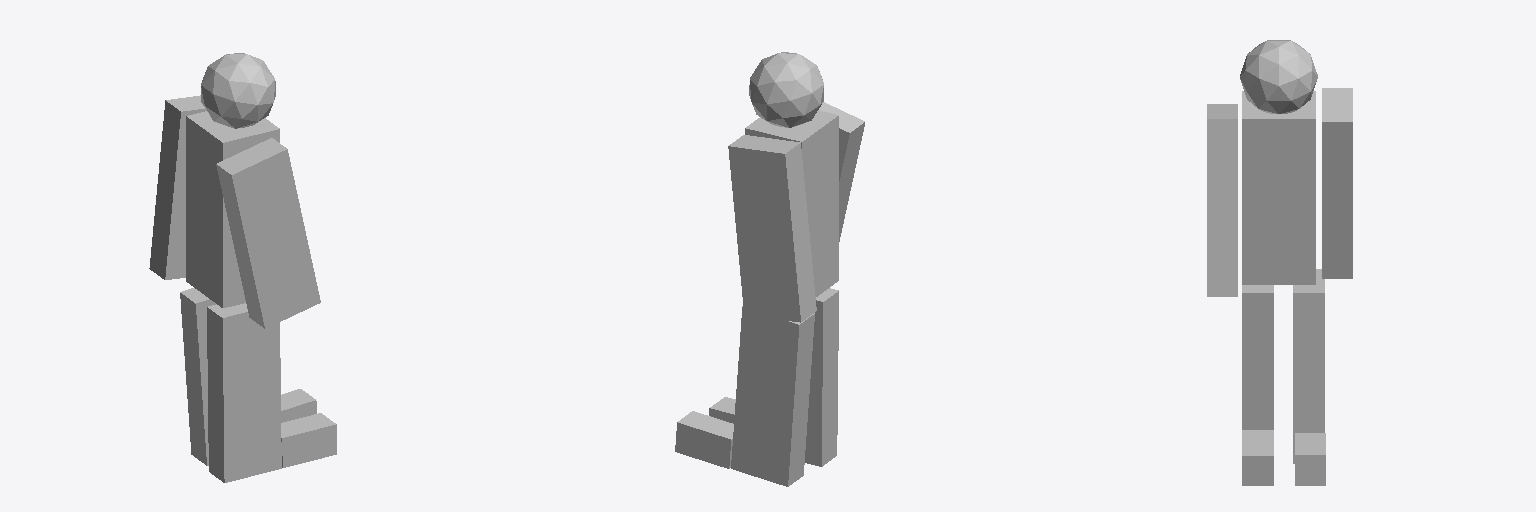
File: player_000009.obj
3 renders of one model, left to right at view 1: azimuth 30°, elevation 25°; view 2: azimuth 150°, elevation 25°; view 3: azimuth 270°, elevation 25°, orthographic.
Parts seen in each view (by area): view 1: Cube.005, Cube.001, Cube, Cube.006, Icosphere, Cube.002, Cube.003, Cube.004; view 2: Cube.006, Cube.002, Cube, Cube.001, Icosphere, Cube.004, Cube.005; view 3: Cube, Cube.005, Cube.006, Cube.002, Cube.001, Icosphere, Cube.003, Cube.004.
Part boxes in pixels (x1,y1,x2,y2): Cube.005: (216,138,320,328); Cube.001: (207,303,281,482); Cube: (186,111,279,307); Cube.006: (149,95,206,279); Icosphere: (201,53,275,128); Cube.002: (180,288,215,465); Cube.003: (281,413,336,467); Cube.004: (281,389,316,422); Cube.006: (728,135,816,322); Cube.002: (731,306,814,486); Cube: (745,110,838,296); Cube.001: (805,288,838,466); Icosphere: (749,52,823,127); Cube.004: (675,411,733,468); Cube.005: (819,102,864,241); Cube: (1242,91,1315,284); Cube.005: (1207,104,1237,296); Cube.006: (1322,88,1352,278); Cube.002: (1293,269,1324,463); Cube.001: (1242,285,1273,429); Icosphere: (1240,40,1317,113); Cube.003: (1242,430,1273,485); Cube.004: (1295,433,1325,485).
Size of the model in its own units: 1 by 2.81 by 0.9137.